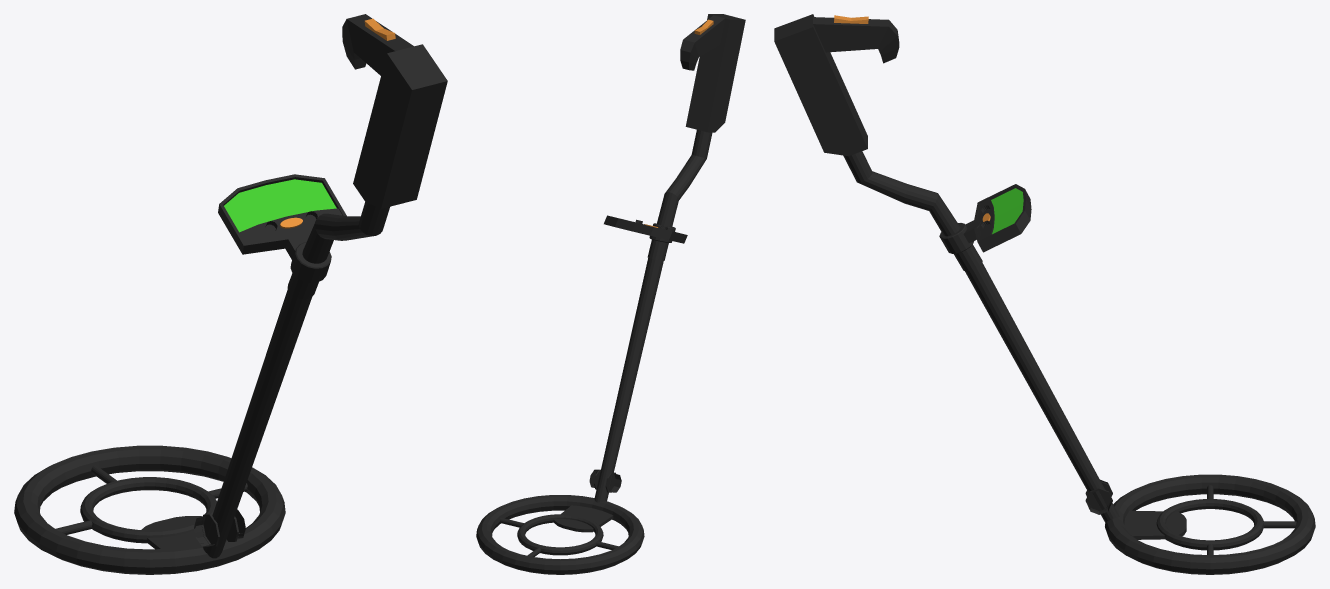
The model's file is Detector.fbx.
3 views of the same model, side by side, from view 1: azimuth 30°, elevation 25°; view 2: azimuth 150°, elevation 25°; view 3: azimuth 270°, elevation 25° (orthographic). The views are drawn at different scales.
Visible parts, largest first — view 1: DetectorMetal; view 2: DetectorMetal; view 3: DetectorMetal.
Part boxes in pixels (left/top/right/bottom): DetectorMetal: left=14, top=14, right=447, bottom=574; DetectorMetal: left=476, top=14, right=745, bottom=574; DetectorMetal: left=774, top=14, right=1315, bottom=574.
Size of the model in its own units: 175 by 474 by 451.
